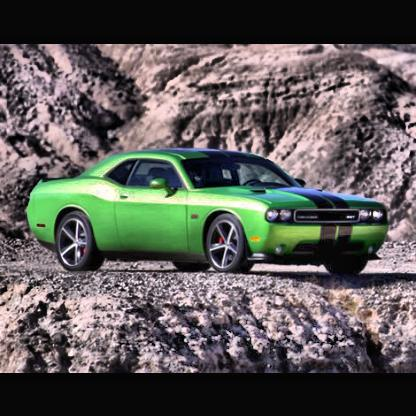Dodge Challenger SRT8 2011: (28, 149, 388, 272)
